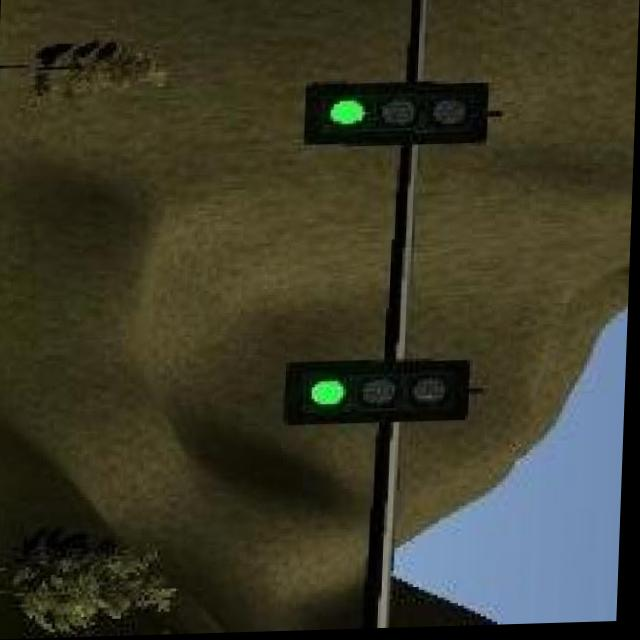green light: (287, 363, 472, 430), (303, 86, 491, 150)
